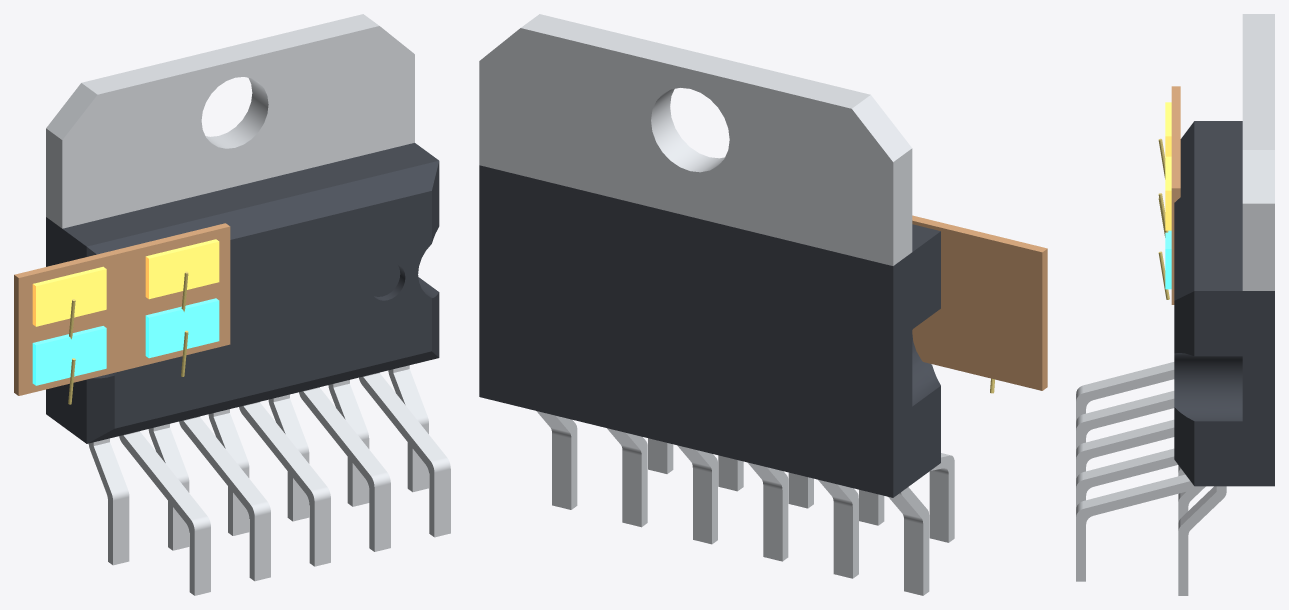
File: puente_h_autopsia.glb
3 views of the same model, side by side, from view 1: azimuth 30°, elevation 25°; view 2: azimuth 150°, elevation 25°; view 3: azimuth 270°, elevation 25° (orthographic). The views are drawn at different scales.
Visible parts, largest first — view 1: Pines_1, Carcasa_Base, Sustrato_Termico_Cobre, Carcasa_Corte, Q3_HighSide_Der, Q1_HighSide_Izq, Q4_LowSide_Izq, Q2_LowSide_Der; view 2: Carcasa_Base, Pines_1, Sustrato_Termico_Cobre; view 3: Carcasa_Base, Pines_1, Sustrato_Termico_Cobre, Carcasa_Corte, Q3_HighSide_Der, Q2_LowSide_Der, Q1_HighSide_Izq.
Part boxes in pixels (x1,y1,x2,y2): Pines_1: (46,14,450,595); Carcasa_Base: (46,143,439,443); Sustrato_Termico_Cobre: (14,223,230,395); Carcasa_Corte: (93,216,246,382); Q3_HighSide_Der: (145,239,219,299); Q1_HighSide_Izq: (32,266,106,326); Q4_LowSide_Izq: (32,326,106,385); Q2_LowSide_Der: (145,298,219,358); Carcasa_Base: (479,165,940,497); Pines_1: (479,14,954,595); Sustrato_Termico_Cobre: (912,215,1047,390); Carcasa_Base: (1174,121,1274,486); Pines_1: (1076,14,1274,595); Sustrato_Termico_Cobre: (1171,86,1180,304); Carcasa_Corte: (1174,128,1189,210); Q3_HighSide_Der: (1165,156,1171,230); Q2_LowSide_Der: (1165,230,1171,289); Q1_HighSide_Izq: (1165,102,1171,156).
Bounding box in the file's own units: 24.51 × 24 × 9.88.
